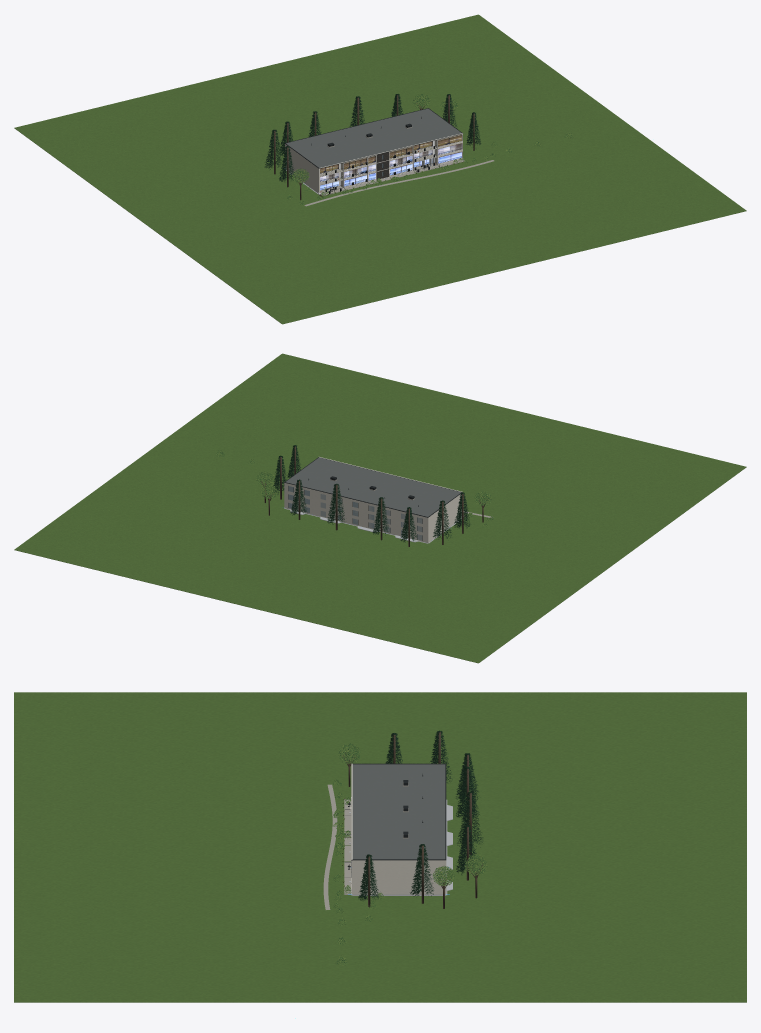
Rendered from Meydenbauer_Photorealistic_Coordination_Model.glb.
The picture shows the model from 3 angles, top to bottom: view 1: azimuth 30°, elevation 25°; view 2: azimuth 150°, elevation 25°; view 3: azimuth 270°, elevation 25°; orthographic projection. The views are drawn at different scales.
Parts seen in each view (by area): view 1: Continuous lawn, Flat insulated roof, End stucco elevation; view 2: Continuous lawn, Flat insulated roof, West stucco elevation, End stucco elevation; view 3: Continuous lawn, Flat insulated roof, End stucco elevation.001, Curving pedestrian path.
Part boxes in pixels (x1,y1,x2,y2): Continuous lawn: (14,14,746,324); Flat insulated roof: (286,108,461,167); End stucco elevation: (285,144,319,192); Continuous lawn: (14,353,746,663); Flat insulated roof: (285,457,461,516); West stucco elevation: (284,483,427,542); End stucco elevation: (428,494,461,542); Continuous lawn: (14,692,746,1002); Flat insulated roof: (352,764,445,859); End stucco elevation.001: (352,860,445,894); Curving pedestrian path: (323,784,337,909).
Size of the model in its own units: 531 by 56.63 by 520.
49 materials, 20 textured.
